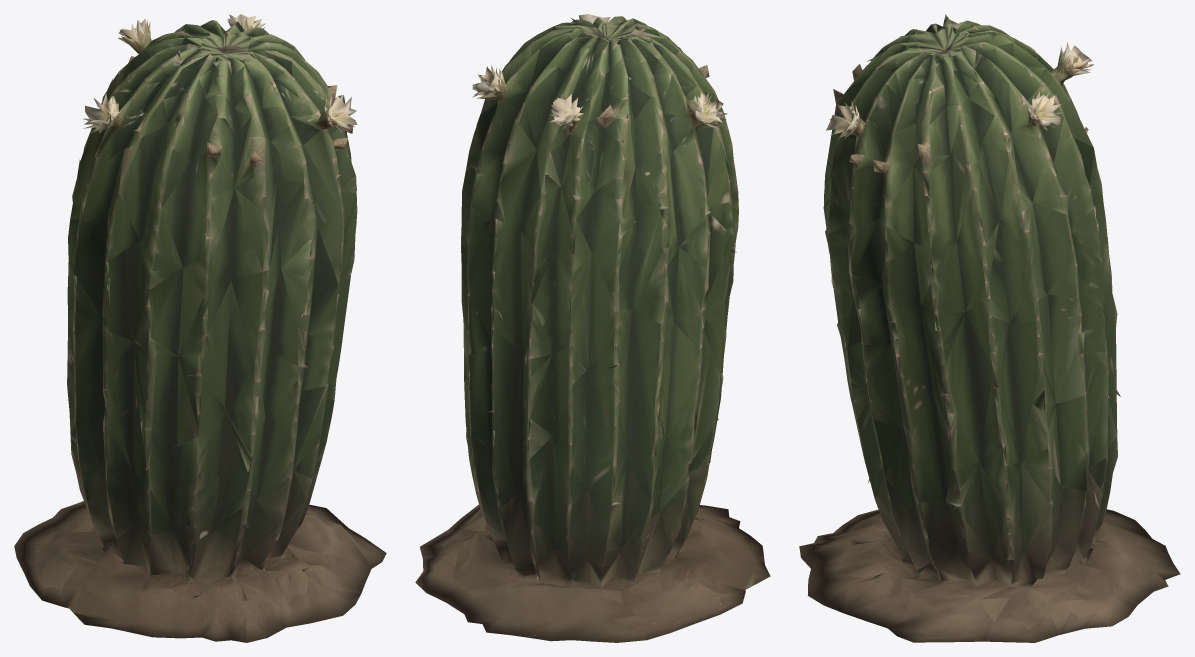
The model's file is dust_cactus_2.fbx.
3 renders of one model, left to right at view 1: azimuth 30°, elevation 25°; view 2: azimuth 150°, elevation 25°; view 3: azimuth 270°, elevation 25°, orthographic. The views are drawn at different scales.
Parts seen in each view (by area): view 1: dust_cactus_2.001; view 2: dust_cactus_2.001; view 3: dust_cactus_2.001.
Part boxes in pixels (x1,y1,x2,y2): dust_cactus_2.001: (14, 14, 386, 642); dust_cactus_2.001: (415, 14, 770, 642); dust_cactus_2.001: (799, 14, 1180, 642).
Bounding box in the file's own units: 19557 × 21068 × 32705.
